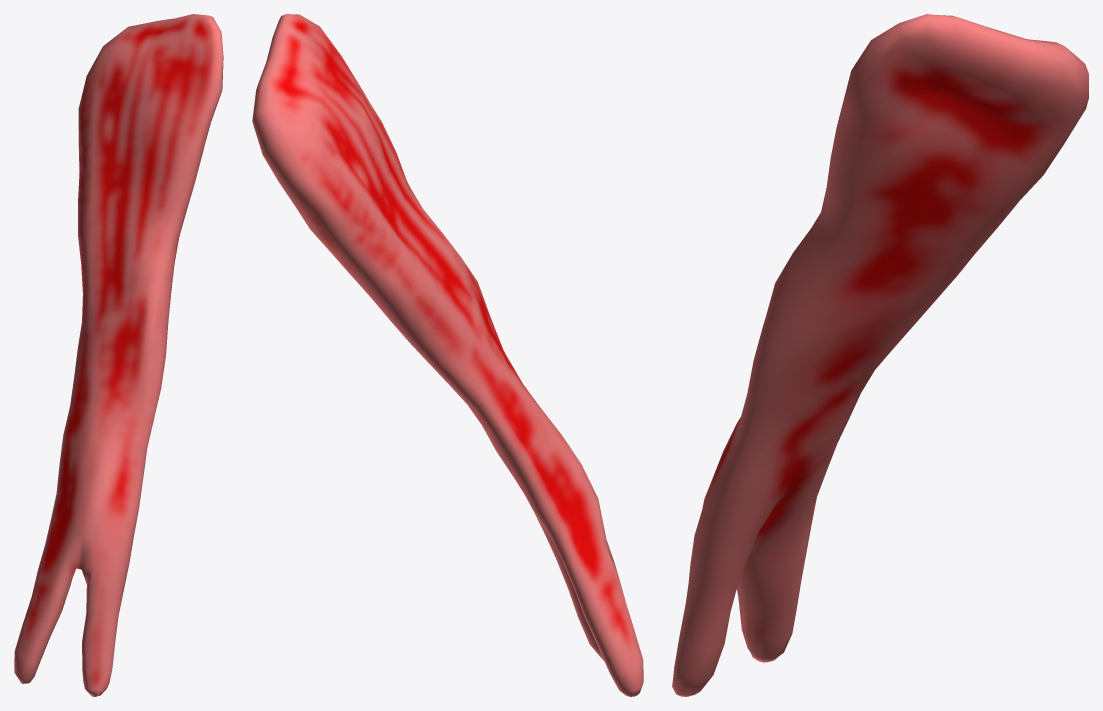
The model's file is Supraspinatus.glb.
The picture shows the model from 3 angles, left to right: view 1: azimuth 30°, elevation 25°; view 2: azimuth 150°, elevation 25°; view 3: azimuth 270°, elevation 25°; orthographic projection. The views are drawn at different scales.
Parts seen in each view (by area): view 1: supraspinatus1.012; view 2: supraspinatus1.012; view 3: supraspinatus1.012.
Boxes of the visible parts, x1,y1,x2,y2 form: supraspinatus1.012: [14, 14, 223, 696]; supraspinatus1.012: [252, 14, 643, 696]; supraspinatus1.012: [672, 14, 1088, 696].
Bounding box in the file's own units: 0.1688 × 0.3613 × 0.1663.
Materials: 1 (1 with a texture image).
